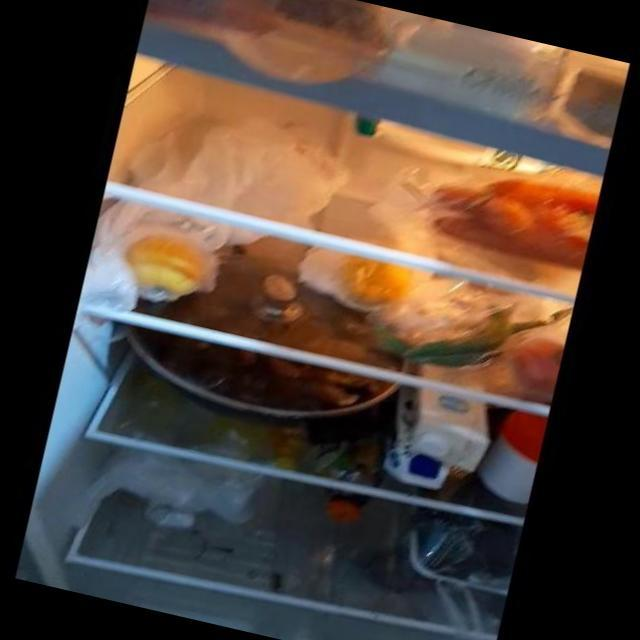Queso: (381, 17, 564, 128)
Zanahoria: (432, 164, 600, 267)
